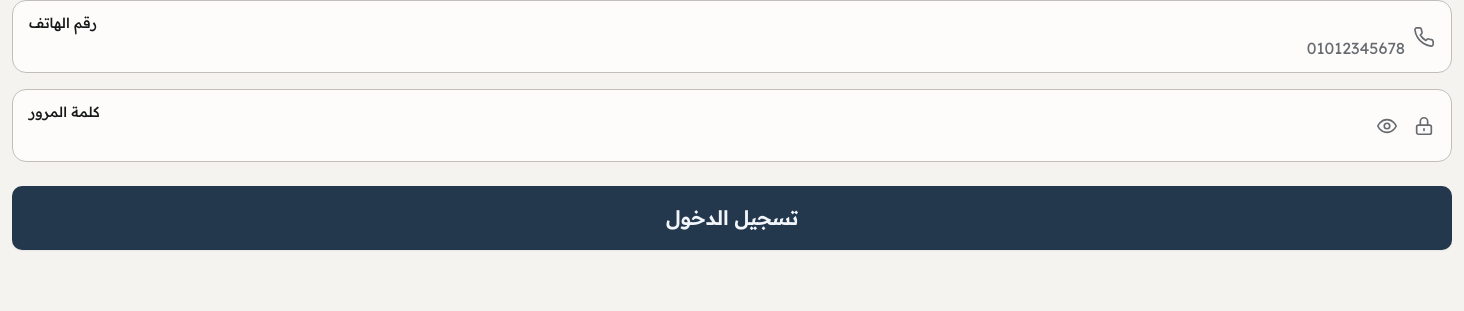
CraftsmanSignInForm › validates the phone before submitting
Step 1. Type "12" into the field labelled "رقم الهاتف" → [717, 48], box [29,36,1405,60]
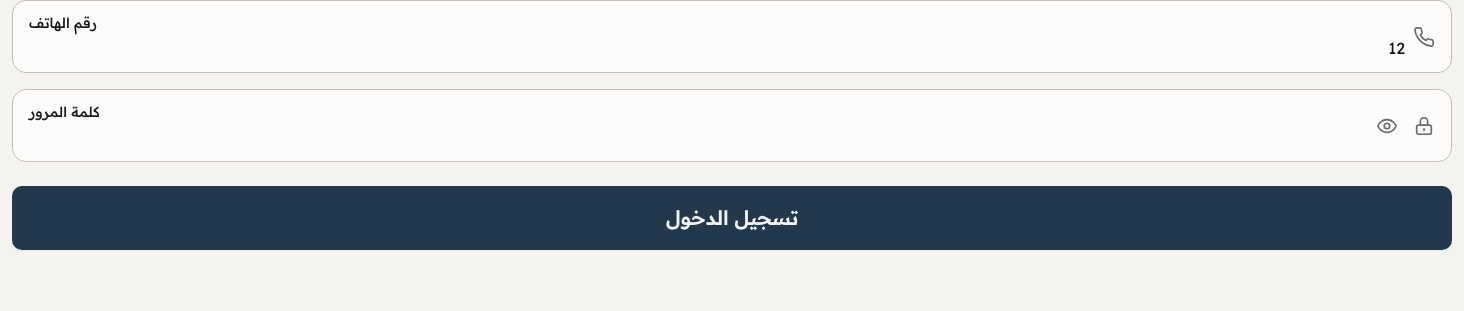
Step 2. Submit the form "تسجيل الدخول"
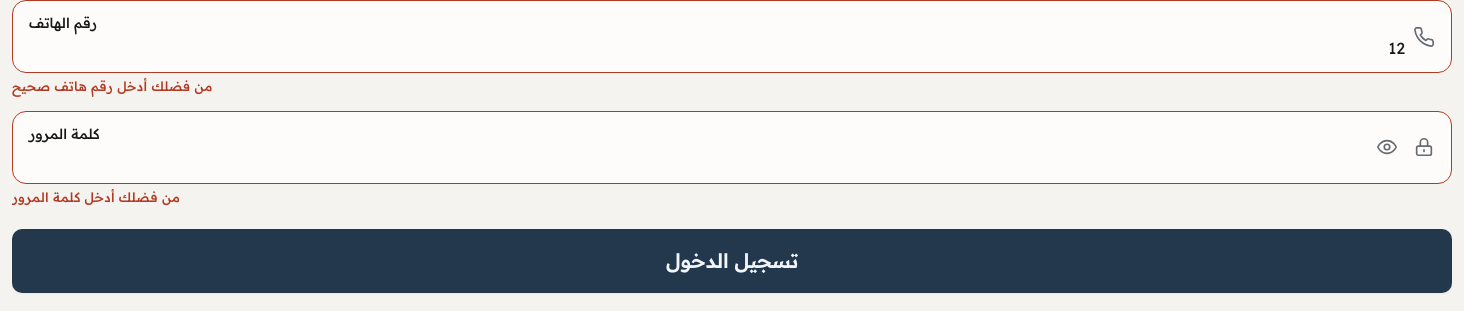
Check: the text "من فضلك أدخل رقم هاتف صحيح" is shown, box [12,78,213,94]
Check: the text "من فضلك أدخل كلمة المرور" is shown, box [12,189,180,205]
